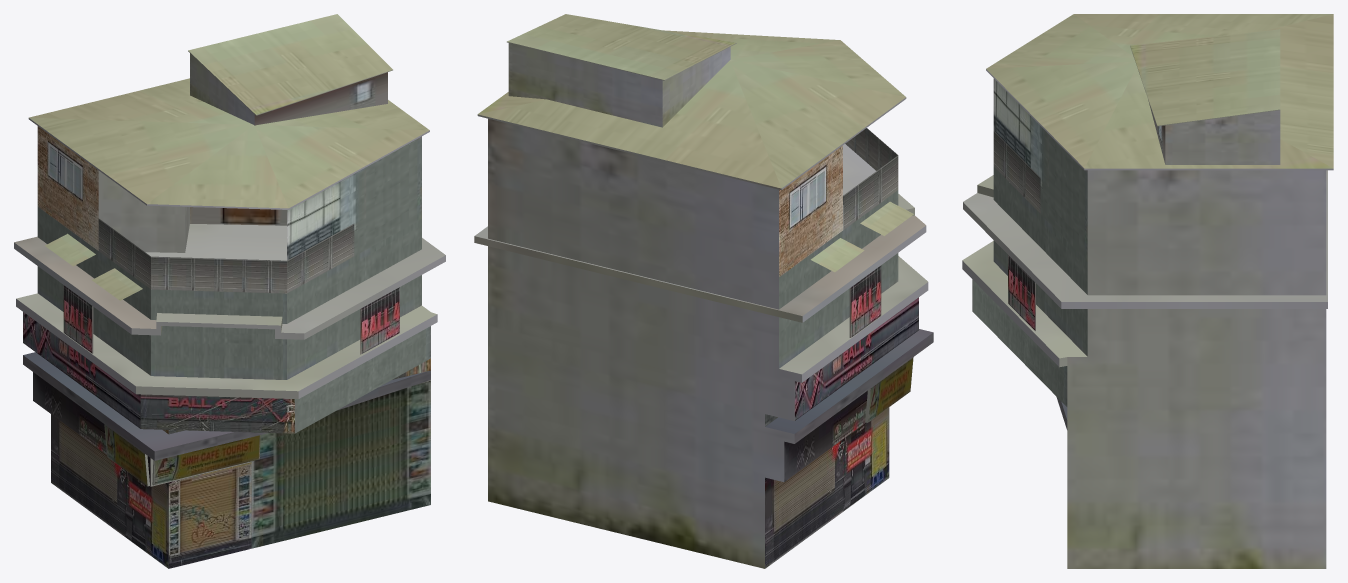
The picture shows the model from 3 angles, left to right: view 1: azimuth 30°, elevation 25°; view 2: azimuth 150°, elevation 25°; view 3: azimuth 270°, elevation 25°; orthographic projection. The views are drawn at different scales.
Visible parts, largest first — view 1: HN1052___Quan_BALL_4; view 2: HN1052___Quan_BALL_4; view 3: HN1052___Quan_BALL_4.
Part boxes in pixels (box(x1,y1,x2,y2)): HN1052___Quan_BALL_4: box(14, 14, 445, 568); HN1052___Quan_BALL_4: box(474, 14, 933, 568); HN1052___Quan_BALL_4: box(962, 14, 1333, 568).
Size of the model in its own units: 13.16 by 16.96 by 12.38.
1 material, 1 textured.
